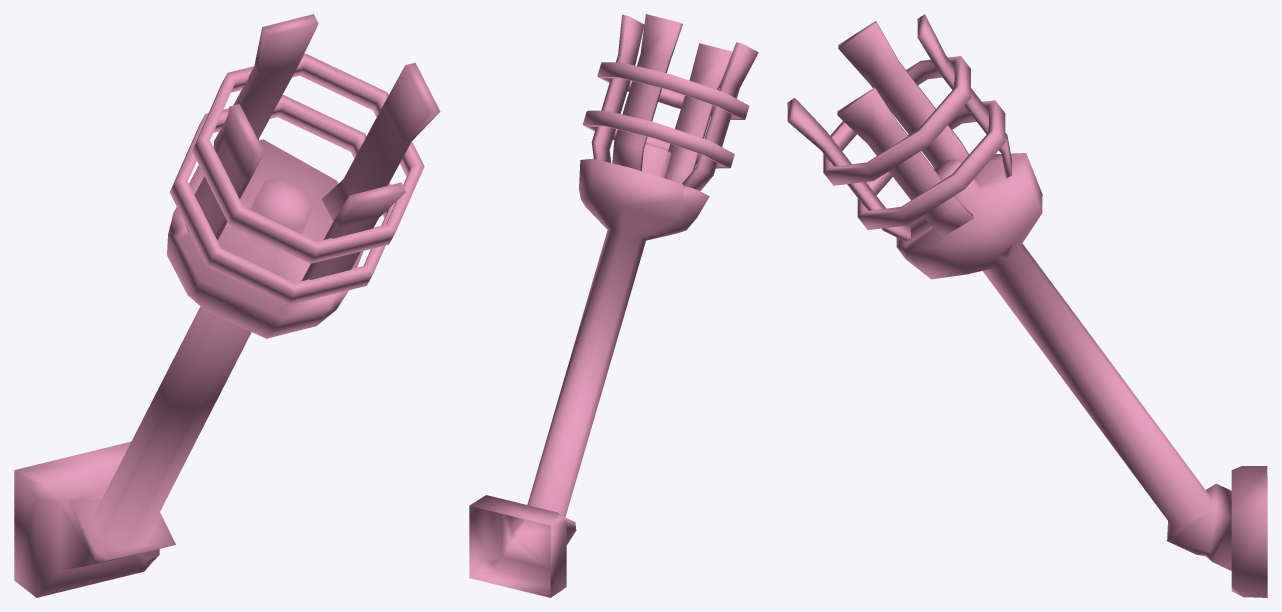
Rendered from Torch.obj.
The picture shows the model from 3 angles, left to right: view 1: azimuth 30°, elevation 25°; view 2: azimuth 150°, elevation 25°; view 3: azimuth 270°, elevation 25°; orthographic projection. The views are drawn at different scales.
Parts seen in each view (by area): view 1: g Box001_Box001; view 2: g Box001_Box001; view 3: g Box001_Box001.
Part boxes in pixels (box(x1,y1,x2,y2)): g Box001_Box001: box(14, 14, 440, 597); g Box001_Box001: box(469, 14, 758, 597); g Box001_Box001: box(787, 14, 1267, 597).
Bounding box in the file's own units: 27.31 × 97.92 × 77.92.
